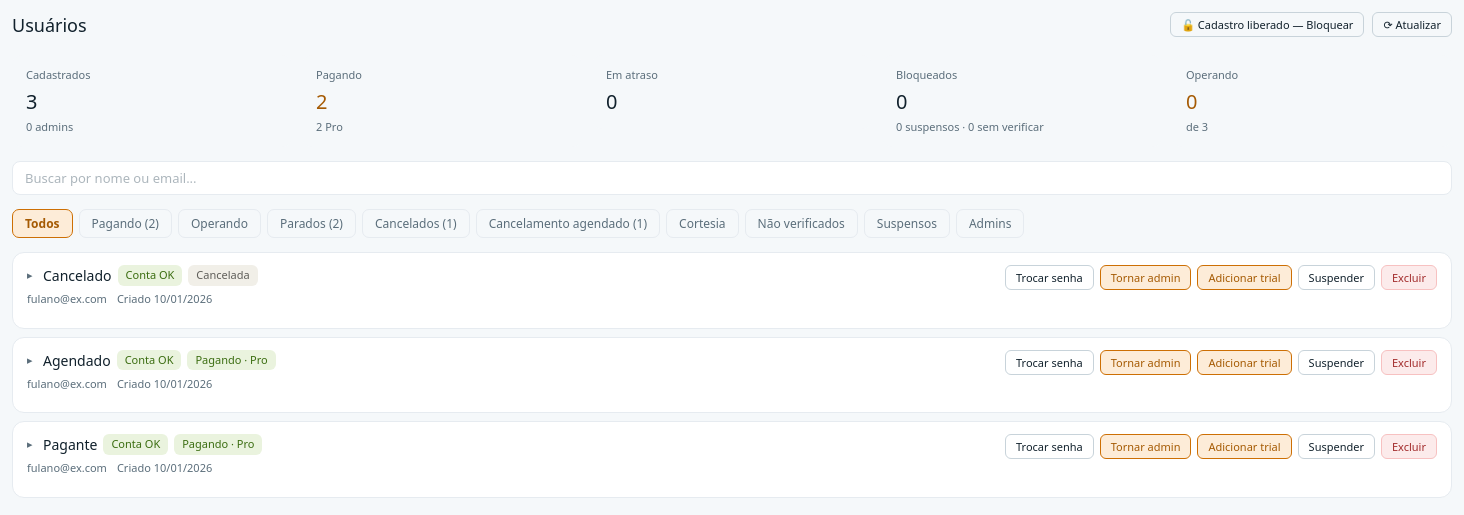
Scenario: Admin › Usuários › 'Cancelados' isola quem já saiu, sem varrer junto quem só agendou
Click the button "Cancelados (1)". click: (416, 224)
box: [362, 209, 470, 238]
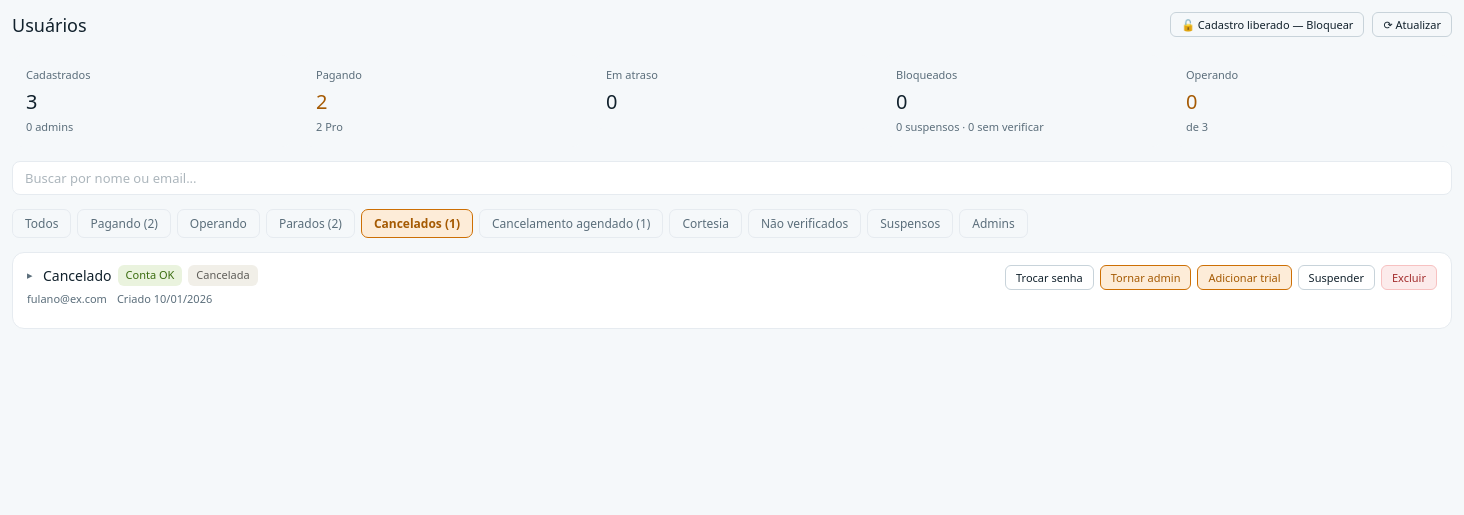
Expected: the text "Cancelado" is shown, [43, 265, 112, 286]
Expected: the button "Pagante" is gone
